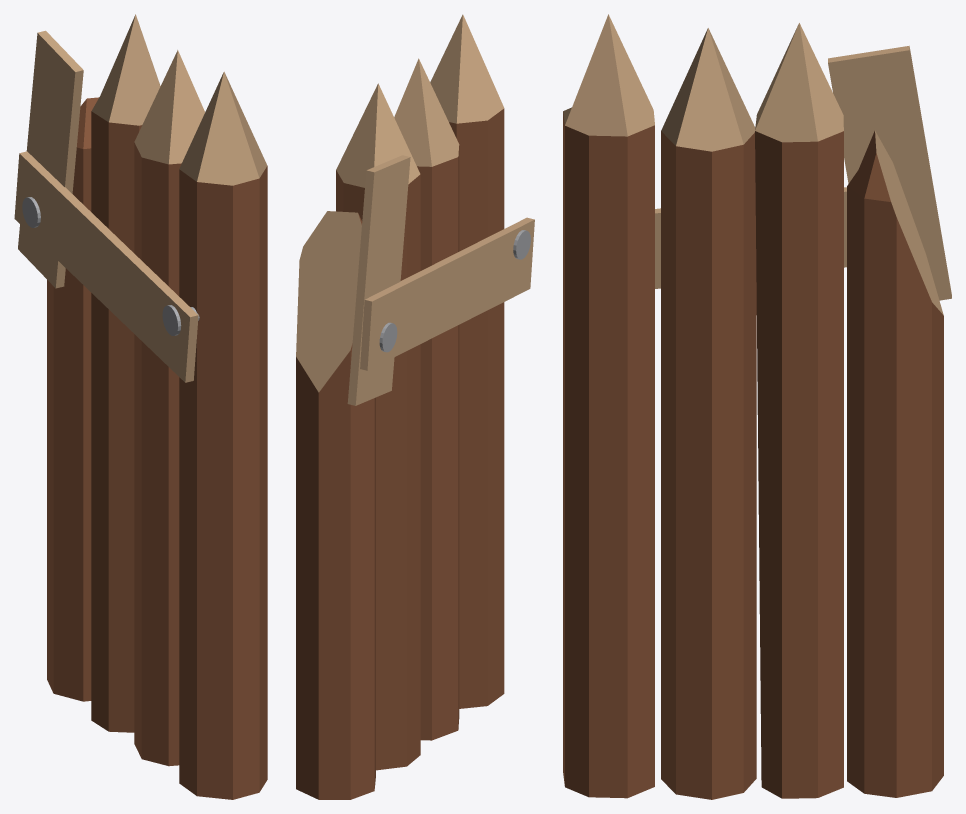
The model's file is Barricada_3.fbx.
The picture shows the model from 3 angles, left to right: view 1: azimuth 30°, elevation 25°; view 2: azimuth 150°, elevation 25°; view 3: azimuth 270°, elevation 25°; orthographic projection. The views are drawn at different scales.
Parts seen in each view (by area): view 1: Barricade 1.002, Cube.002, Cylinder.002; view 2: Barricade 1.002, Cube.002, Cylinder.002; view 3: Barricade 1.002, Cube.002.
Boxes of the visible parts, <box> form: Barricade 1.002: <box>47,14,267,799</box>; Cube.002: <box>14,30,198,382</box>; Cylinder.002: <box>22,197,199,335</box>; Barricade 1.002: <box>296,14,504,799</box>; Cube.002: <box>347,155,534,405</box>; Cylinder.002: <box>379,230,530,352</box>; Barricade 1.002: <box>563,14,943,799</box>; Cube.002: <box>655,45,951,300</box>.
Bounding box in the file's own units: 112 × 772 × 356.
